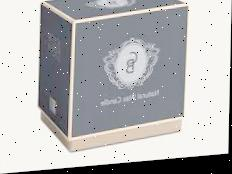cube: (36, 0, 189, 156)
